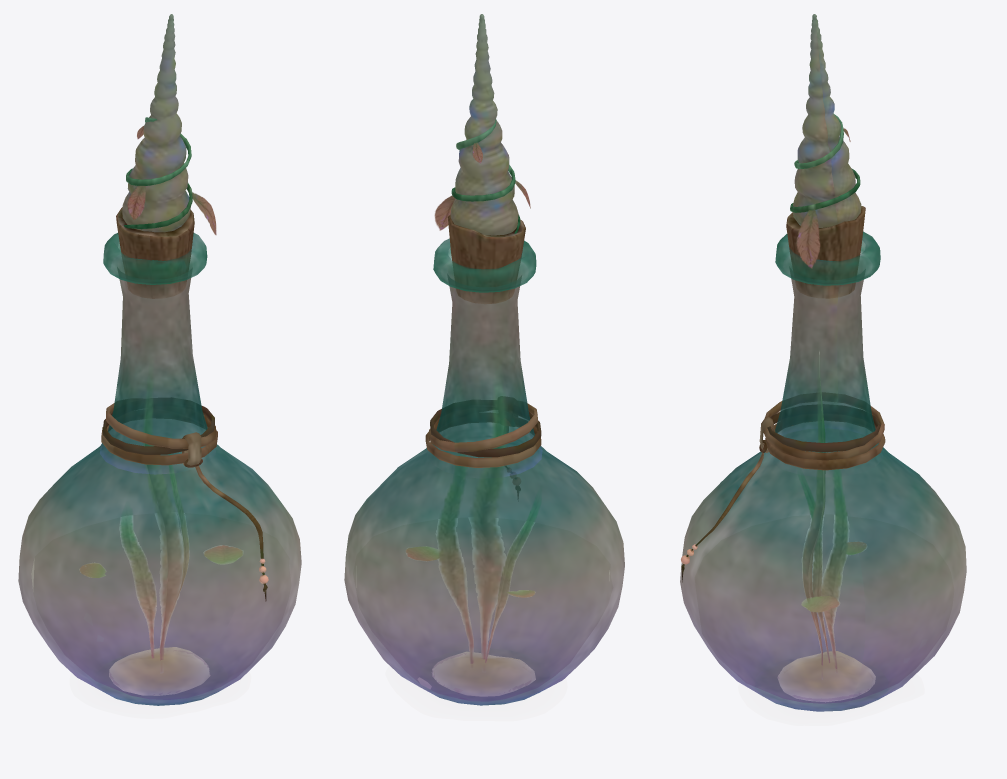
Rendered from potions3.glb.
3 renders of one model, left to right at view 1: azimuth 30°, elevation 25°; view 2: azimuth 150°, elevation 25°; view 3: azimuth 270°, elevation 25°, orthographic. The views are drawn at different scales.
Visible parts, largest first — view 1: Potion2_Glass_0, Potion2_Objects_0, Potion2_Plants_0, Potion2_Liquid_0; view 2: Potion2_Glass_0, Potion2_Objects_0, Potion2_Plants_0, Potion2_Liquid_0; view 3: Potion2_Glass_0, Potion2_Objects_0, Potion2_Plants_0, Potion2_Liquid_0.
Part boxes in pixels (<box>): Potion2_Glass_0: <box>18,233,301,705</box>; Potion2_Objects_0: <box>101,14,268,689</box>; Potion2_Plants_0: <box>80,117,242,659</box>; Potion2_Liquid_0: <box>71,637,248,699</box>; Potion2_Glass_0: <box>344,238,624,705</box>; Potion2_Objects_0: <box>425,14,541,692</box>; Potion2_Plants_0: <box>406,119,539,663</box>; Potion2_Liquid_0: <box>411,656,572,700</box>; Potion2_Glass_0: <box>680,231,966,711</box>; Potion2_Objects_0: <box>681,14,885,696</box>; Potion2_Plants_0: <box>790,113,866,668</box>; Potion2_Liquid_0: <box>730,632,926,702</box>.
Bounding box in the file's own units: 118 × 299 × 126.
Materials: 5 (5 with a texture image).
